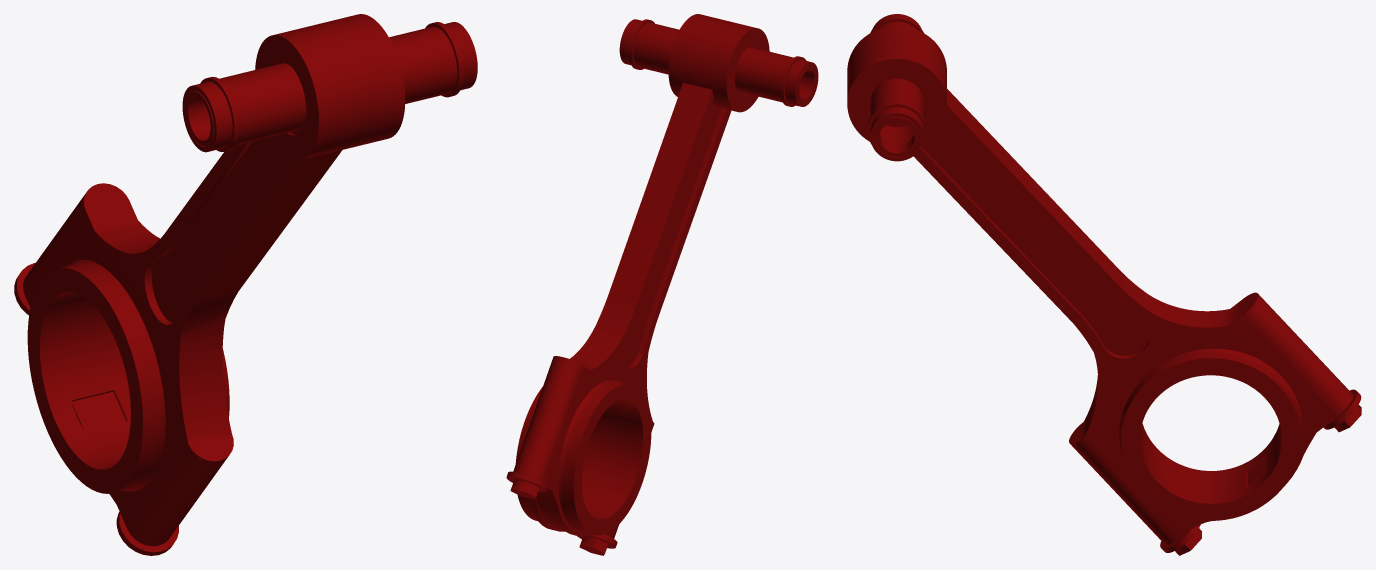
The model's file is Crankshaft_Pistons.glb.
3 renders of one model, left to right at view 1: azimuth 30°, elevation 25°; view 2: azimuth 150°, elevation 25°; view 3: azimuth 270°, elevation 25°, orthographic. The views are drawn at different scales.
Parts seen in each view (by area): view 1: Crankshaft_Pistons.obj; view 2: Crankshaft_Pistons.obj; view 3: Crankshaft_Pistons.obj.
Boxes of the visible parts, left/top/right/bottom form: Crankshaft_Pistons.obj: left=14, top=14, right=477, bottom=555; Crankshaft_Pistons.obj: left=506, top=14, right=818, bottom=555; Crankshaft_Pistons.obj: left=847, top=14, right=1361, bottom=555.
Size of the model in its own units: 0.0805 by 0.1925 by 0.176.
